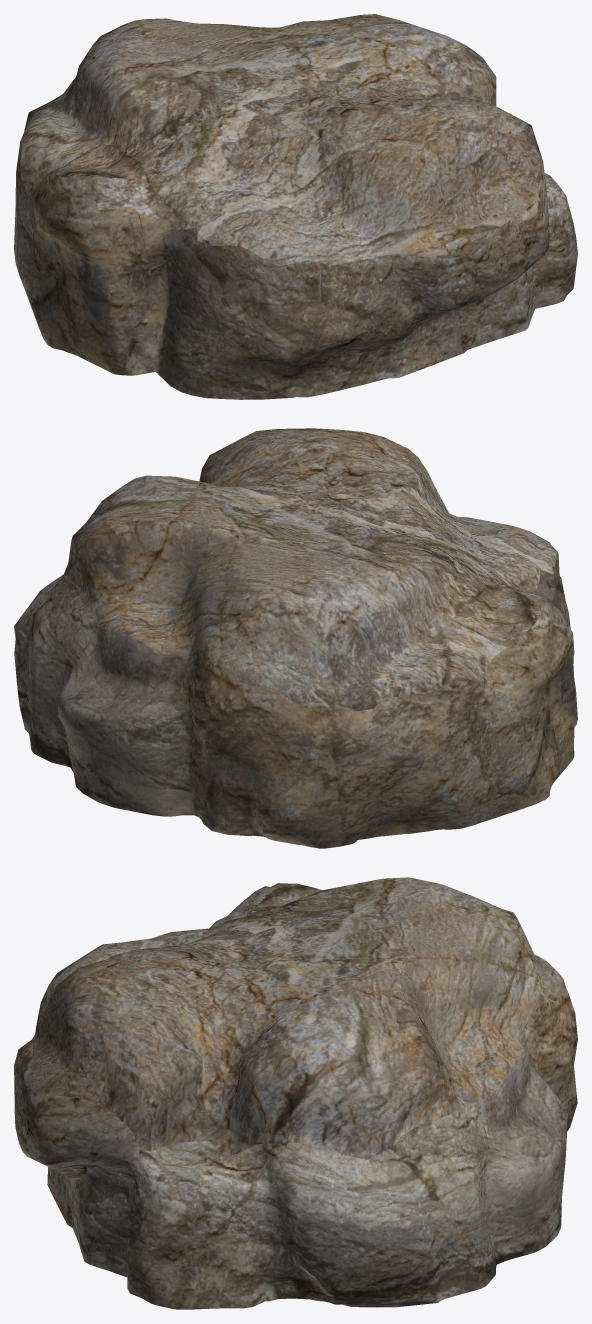
Rendered from Rock2.fbx.
3 renders of one model, top to bottom at view 1: azimuth 30°, elevation 25°; view 2: azimuth 150°, elevation 25°; view 3: azimuth 270°, elevation 25°, orthographic. The views are drawn at different scales.
Visible parts, largest first — view 1: LV_Lobby_Rock_Middle01A_SM_EYE; view 2: LV_Lobby_Rock_Middle01A_SM_EYE; view 3: LV_Lobby_Rock_Middle01A_SM_EYE.
Boxes of the visible parts, x1,y1,x2,y2 form: LV_Lobby_Rock_Middle01A_SM_EYE: (14,14,577,399); LV_Lobby_Rock_Middle01A_SM_EYE: (14,428,577,848); LV_Lobby_Rock_Middle01A_SM_EYE: (14,877,577,1309).
Size of the model in its own units: 5.46 by 2.44 by 5.04.
Materials: 1 (1 with a texture image).
